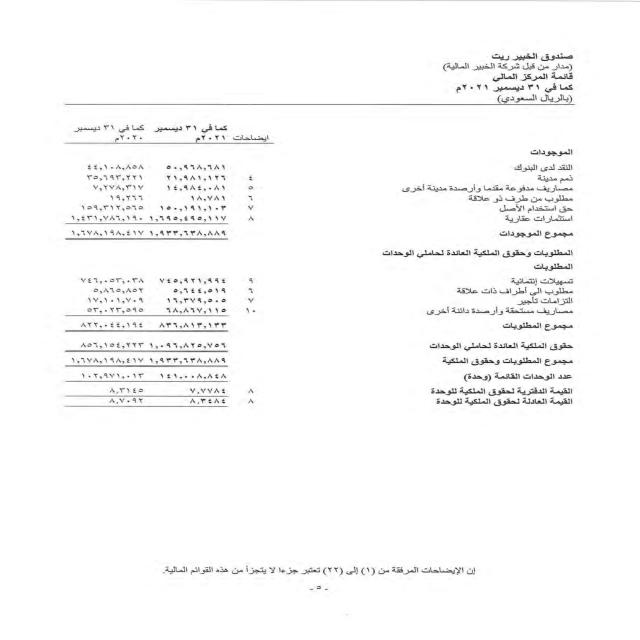financial_sheets: (485, 71, 576, 83)
table: (38, 120, 286, 439)
